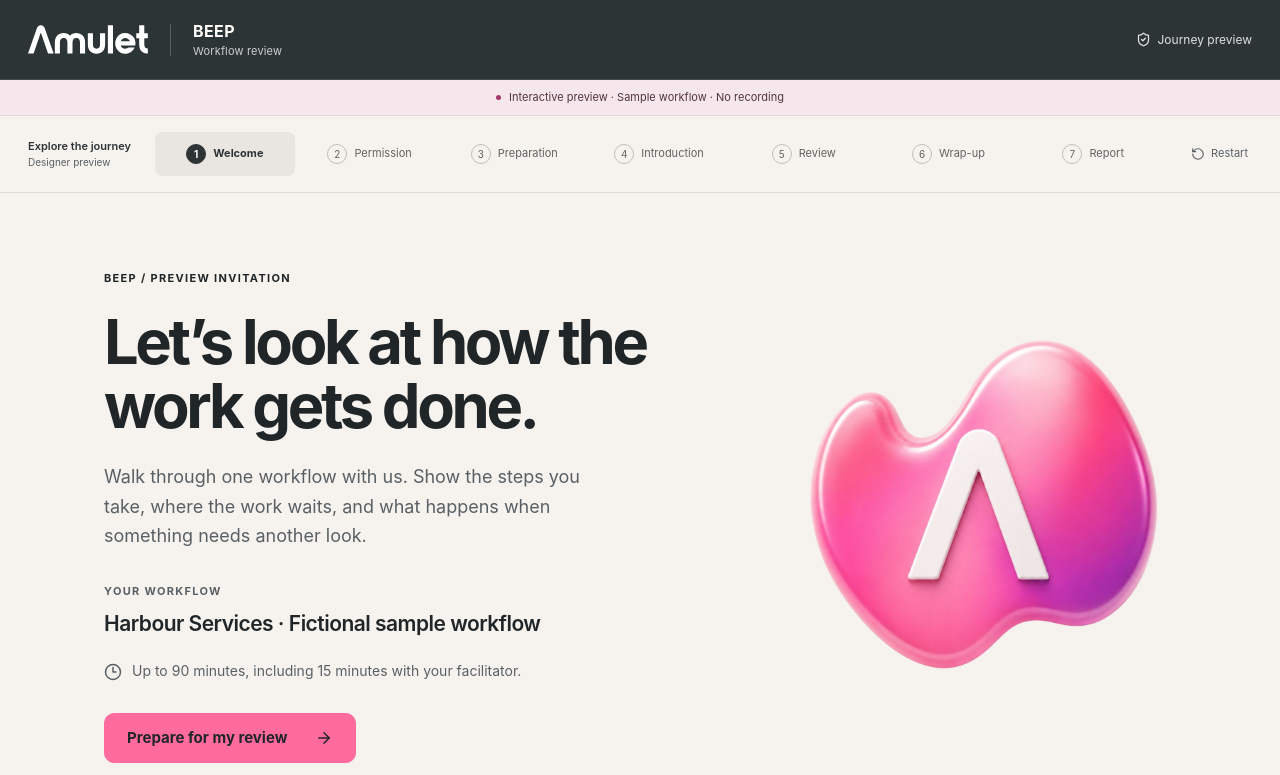
Test case: interactive journey › labels designer skips without granting consent and resets permissions
Click the button with aria-label "Explore Review". click: click(804, 154)
box: [734,132,874,176]
(page scrolled)
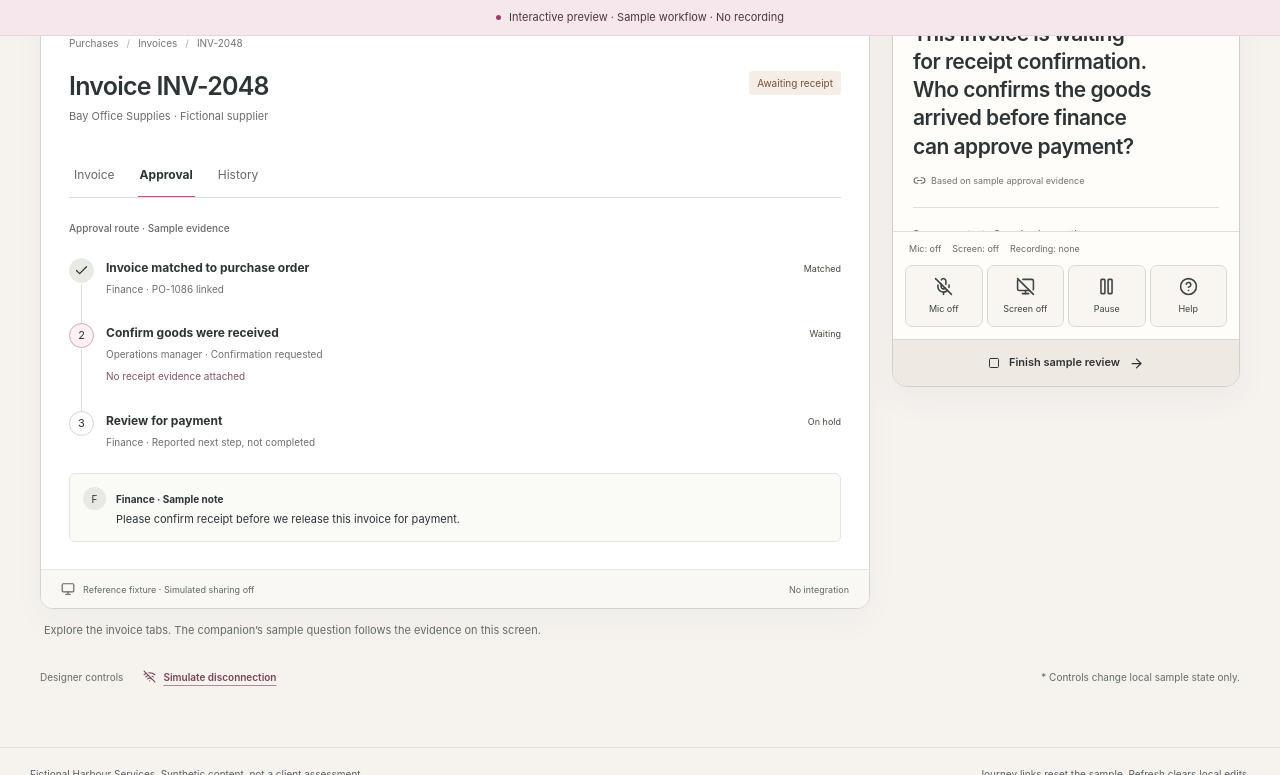
Click the button "Simulate disconnection". click: click(210, 677)
box: [143,655,276,699]
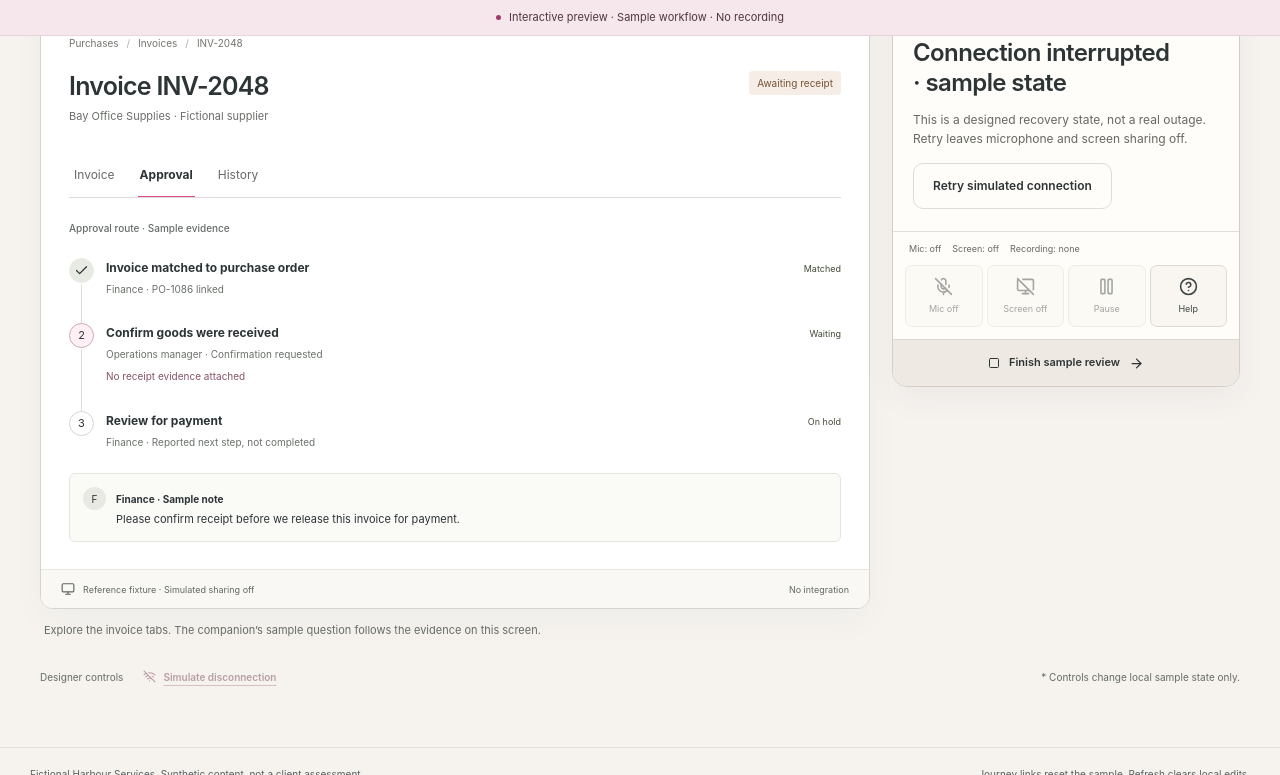
Check: the heading "Connection interrupted · sample state" is shown, box [913,38,1170,96]
Check: the button with aria-label "Simulate microphone" is disabled, box [905,265,982,327]
Click the button "Retry simulated connection". click: click(1012, 186)
box: [913,163,1112,209]
(page scrolled)
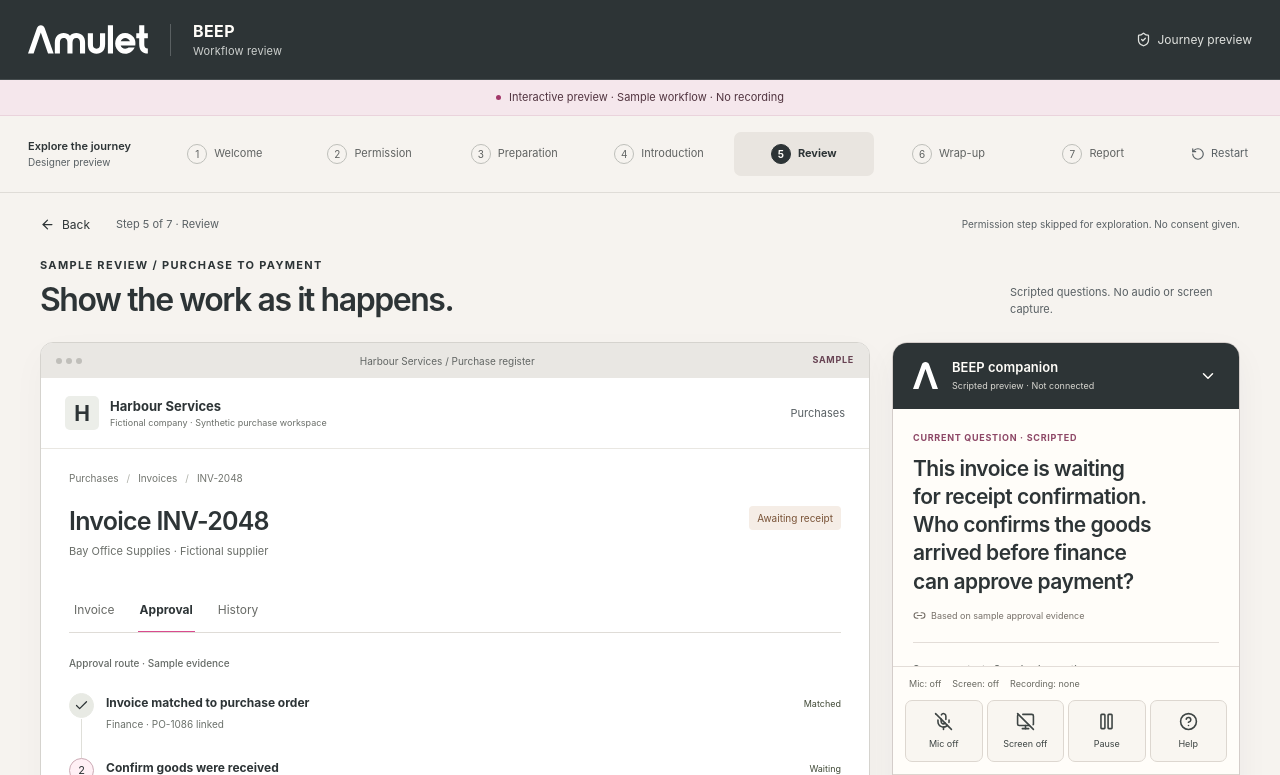
Click the button with aria-label "Explore Permission". click: click(370, 154)
box: [300,132,439,176]
(page scrolled)
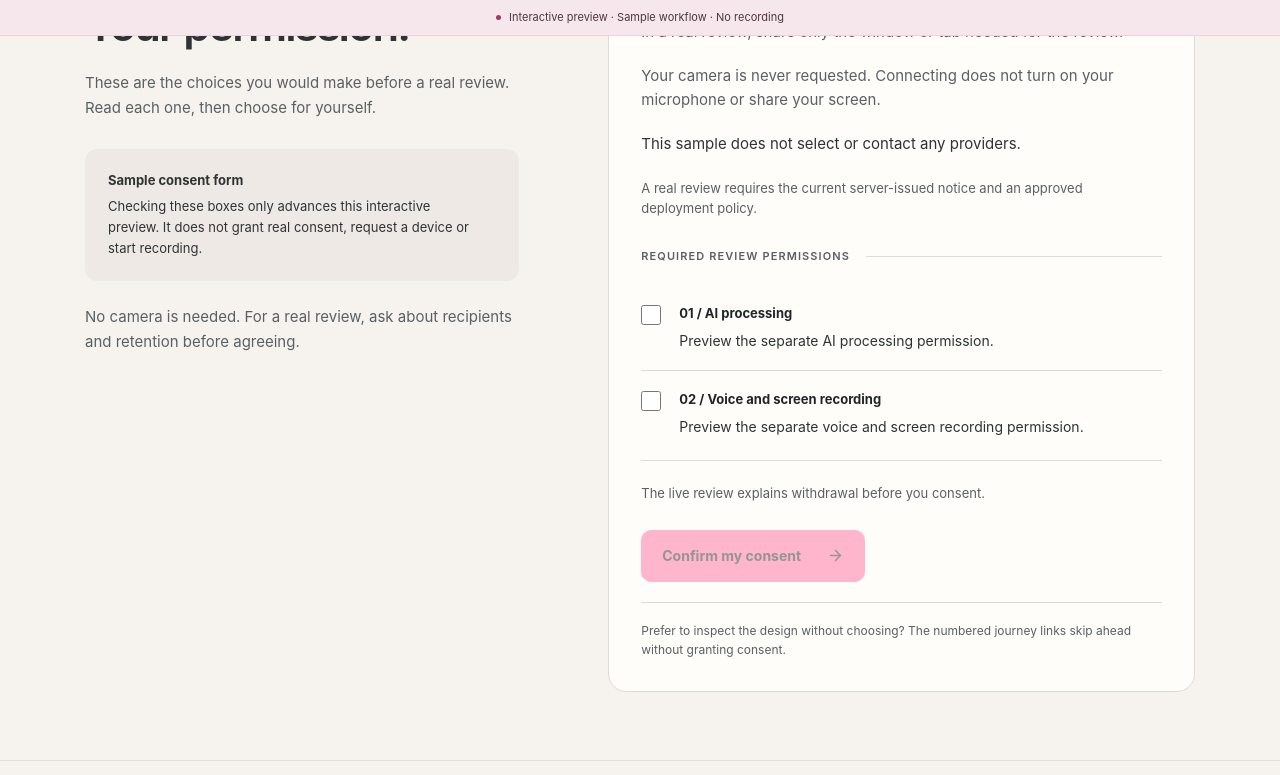
Check: the 1st checkbox is not checked, box [641,305,661,325]
Check: the 2nd checkbox is not checked, box [641,391,661,411]
